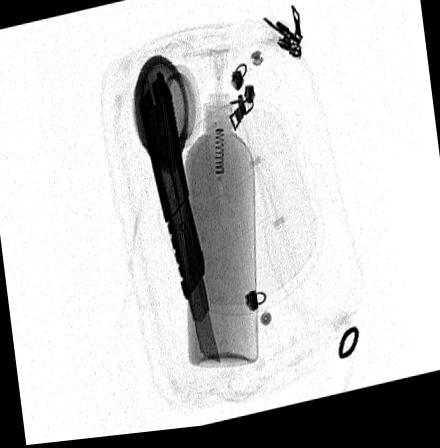Knife: (137, 75, 220, 368)
